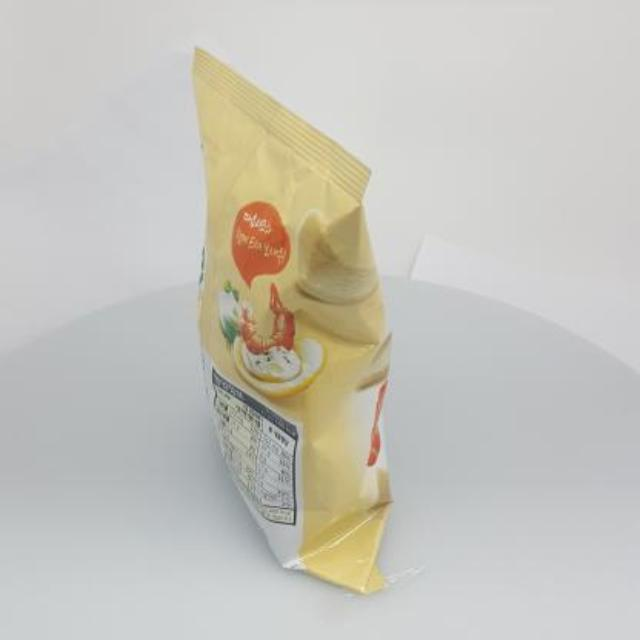snack_bag: (165, 33, 411, 600)
